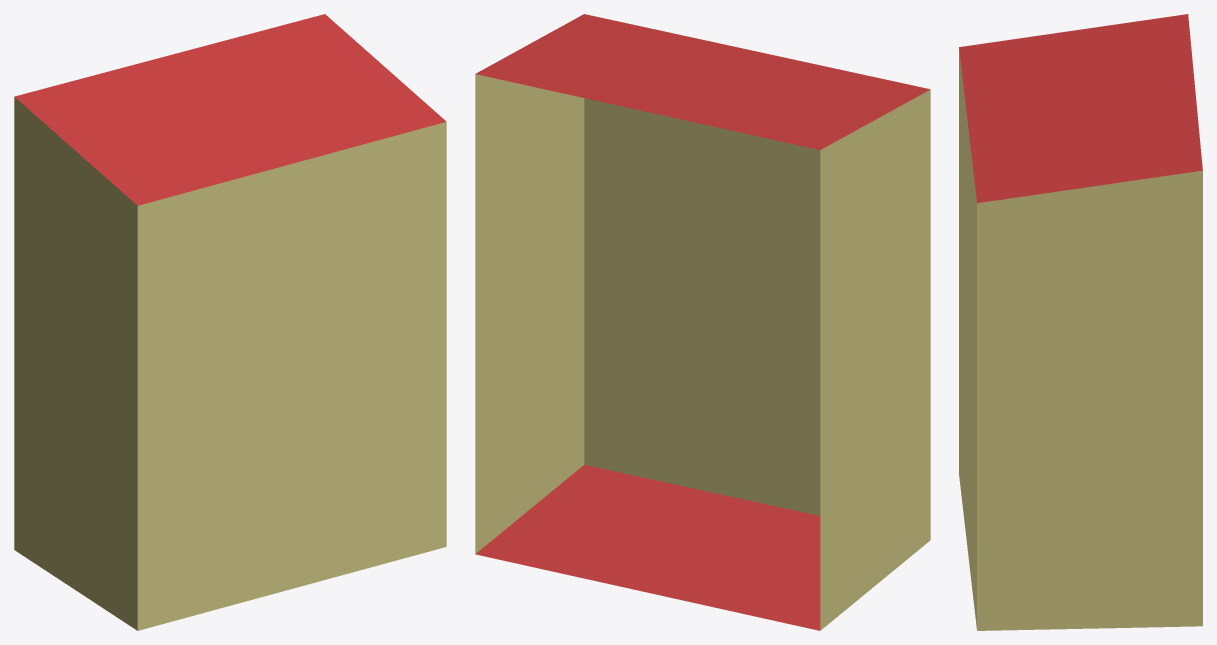
The picture shows the model from 3 angles, left to right: view 1: azimuth 30°, elevation 25°; view 2: azimuth 150°, elevation 25°; view 3: azimuth 270°, elevation 25°; orthographic projection. The views are drawn at different scales.
Parts seen in each view (by area): view 1: group_4, group_3; view 2: group_4, group_5, group_3; view 3: group_4, group_3.
Boxes of the visible parts, <box> form: group_4: <box>14,97,446,630</box>; group_3: <box>14,14,446,205</box>; group_4: <box>475,74,930,630</box>; group_5: <box>475,465,820,630</box>; group_3: <box>475,14,930,149</box>; group_4: <box>959,48,1202,630</box>; group_3: <box>959,14,1202,203</box>.
Size of the model in its own units: 5.89 by 3.77 by 7.79.
